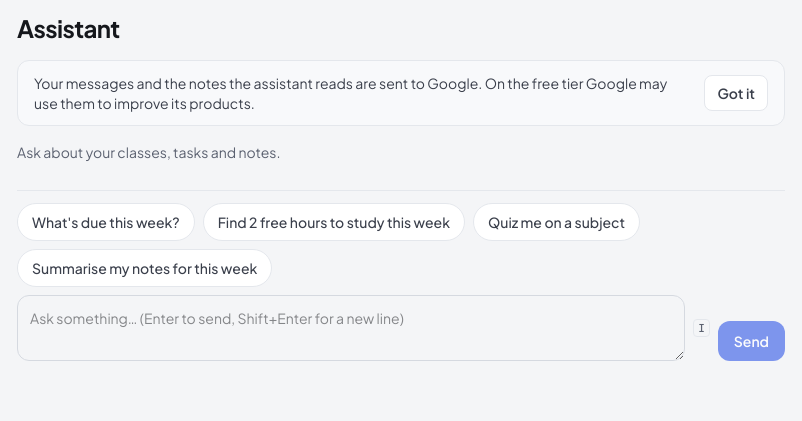
Test: AssistantPage › streaming › Stop aborts, keeps the partial text marked stopped and resyncs the chat
This screenshot has width=802, height=421.
Type "hi" into the text box named "Message the assistant" at (351, 328), box [17, 295, 685, 361]
Then press Enter
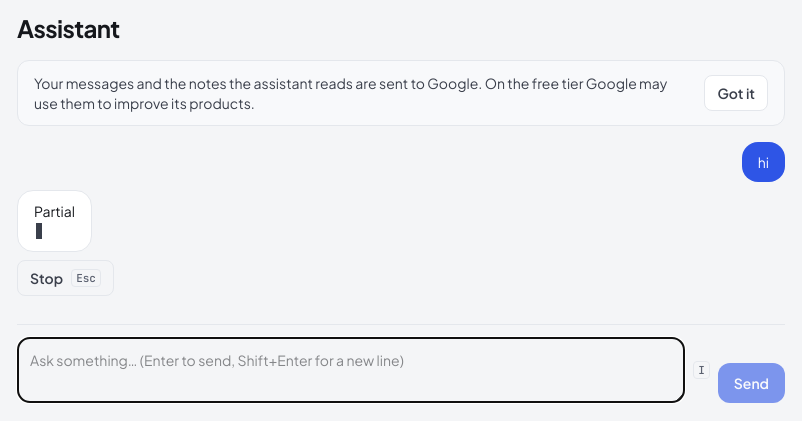
expect the text "Partial" is shown: met, box [34, 201, 75, 221]
Click the button "Stop Esc" at (65, 278), box [17, 260, 114, 296]
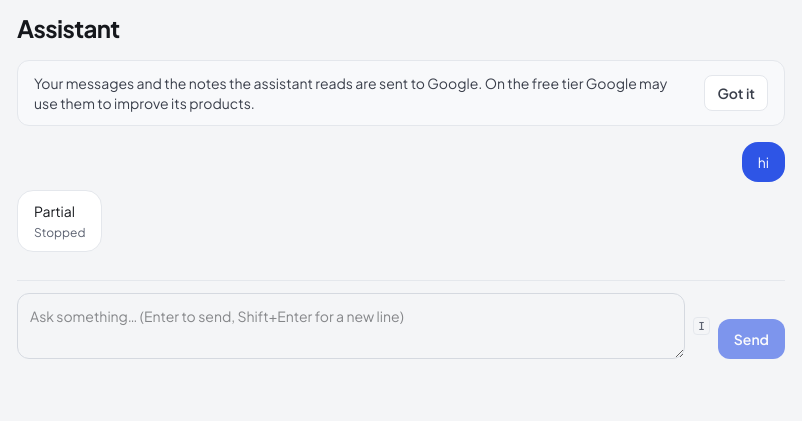
expect the text "Partial" is shown: met, box [34, 202, 75, 220]
expect the text "Stopped" is shown: met, box [34, 225, 85, 241]
